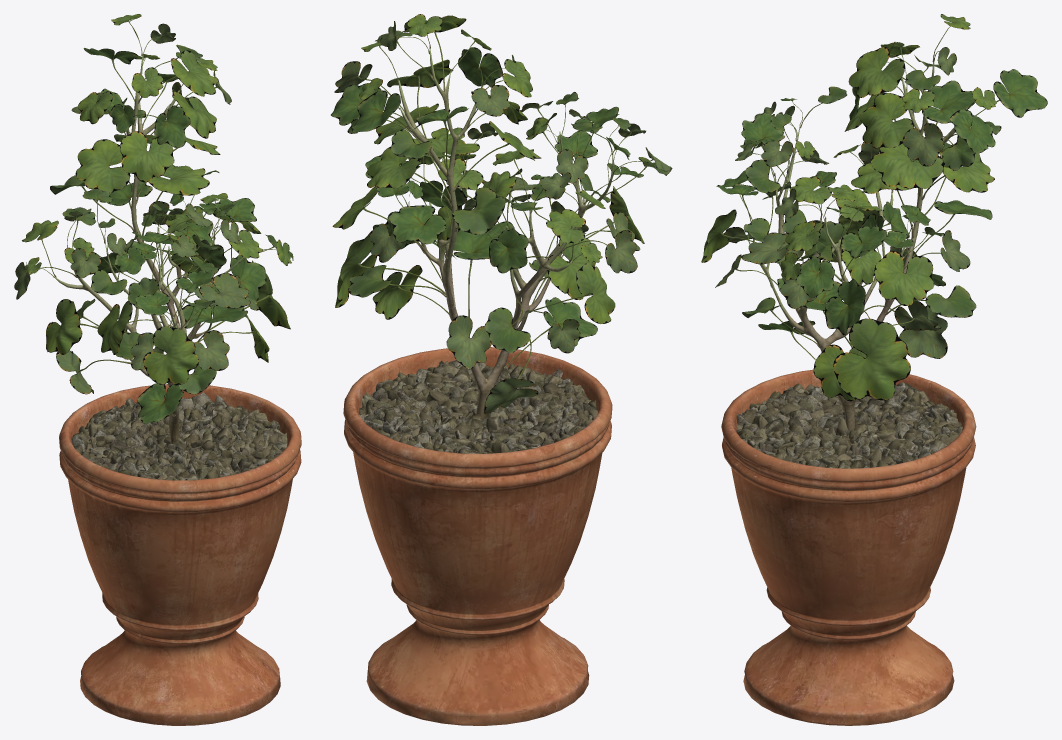
Rendered from potted_plant_01.glb.
3 renders of one model, left to right at view 1: azimuth 30°, elevation 25°; view 2: azimuth 150°, elevation 25°; view 3: azimuth 270°, elevation 25°, orthographic. The views are drawn at different scales.
Parts seen in each view (by area): view 1: potted_plant_01_stem, potted_plant_01_leaves; view 2: potted_plant_01_stem, potted_plant_01_leaves; view 3: potted_plant_01_stem, potted_plant_01_leaves.
Boxes of the visible parts, bbox=[...] form: potted_plant_01_stem: bbox=[54, 54, 301, 725]; potted_plant_01_leaves: bbox=[14, 14, 293, 423]; potted_plant_01_stem: bbox=[343, 48, 613, 725]; potted_plant_01_leaves: bbox=[331, 14, 672, 414]; potted_plant_01_stem: bbox=[721, 55, 976, 725]; potted_plant_01_leaves: bbox=[701, 14, 1047, 401].
Bounding box in the file's own units: 0.5874 × 1.34 × 0.6336.
2 materials, 2 textured.
